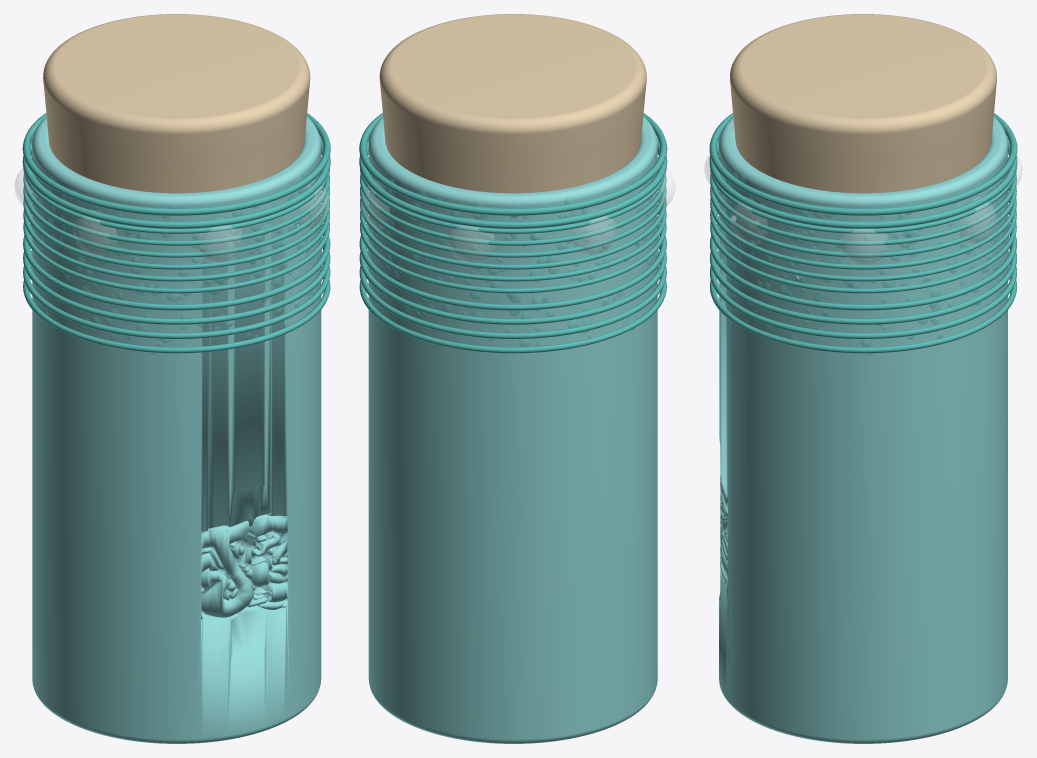
The model's file is jar_teal_silver.glb.
The picture shows the model from 3 angles, left to right: view 1: azimuth 30°, elevation 25°; view 2: azimuth 150°, elevation 25°; view 3: azimuth 270°, elevation 25°; orthographic projection.
Visible parts, largest first — view 1: body, cork, lines, frit, marbles; view 2: body, cork, lines, frit, marbles; view 3: body, cork, lines, frit, marbles.
Boxes of the visible parts, <box> form: body: <box>32,116,321,743</box>; cork: <box>43,14,310,251</box>; lines: <box>22,113,330,353</box>; frit: <box>29,133,322,353</box>; marbles: <box>14,168,329,262</box>; body: <box>368,116,657,743</box>; cork: <box>379,14,646,250</box>; lines: <box>359,113,667,353</box>; frit: <box>366,133,659,346</box>; marbles: <box>360,168,675,262</box>; body: <box>719,116,1007,743</box>; cork: <box>730,14,996,193</box>; lines: <box>709,113,1017,353</box>; frit: <box>717,125,1009,354</box>; marbles: <box>704,154,1022,265</box>.
Bounding box in the file's own units: 0.0483 × 0.104 × 0.0486.
